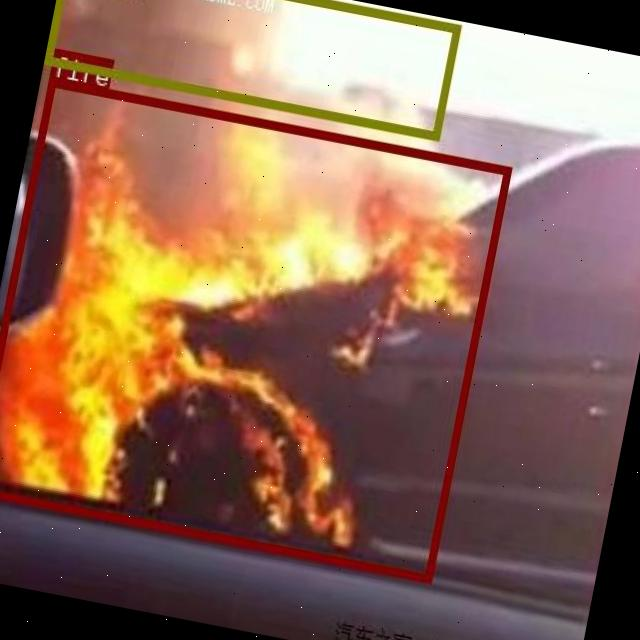fire: (0, 75, 510, 580)
smoke: (44, 0, 459, 139)
